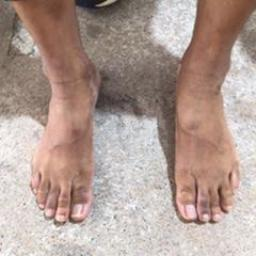Dorsal View -Both Feet-: (24, 36, 246, 235)
